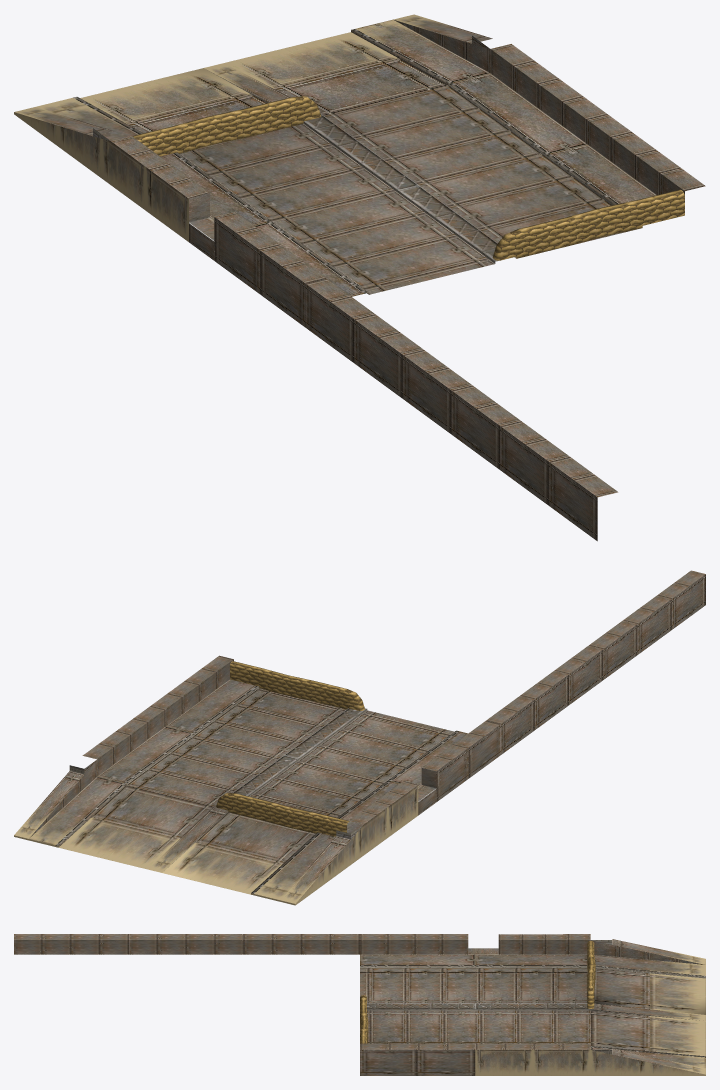
Rendered from MISSION8_LARGEBRIDGE_B.glb.
3 views of the same model, one above another, from view 1: azimuth 30°, elevation 25°; view 2: azimuth 150°, elevation 25°; view 3: azimuth 270°, elevation 25° (orthographic). The views are drawn at different scales.
Parts seen in each view (by area): view 1: MISSION8_LARGEBRIDGE_B; view 2: MISSION8_LARGEBRIDGE_B; view 3: MISSION8_LARGEBRIDGE_B.
Boxes of the visible parts, box(x1,y1,x2,y2) form: MISSION8_LARGEBRIDGE_B: box(14, 14, 705, 541); MISSION8_LARGEBRIDGE_B: box(14, 570, 705, 905); MISSION8_LARGEBRIDGE_B: box(14, 934, 705, 1075).
Bounding box in the file's own units: 19 × 2 × 48.
6 materials, 6 textured.
